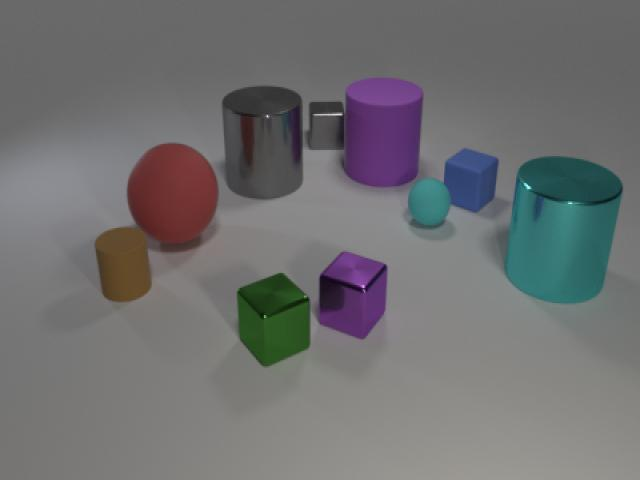cylinder: (502, 150, 628, 310), (220, 80, 308, 202), (342, 72, 426, 189), (92, 222, 154, 307)
round ball: (126, 136, 219, 248), (406, 174, 456, 230)
